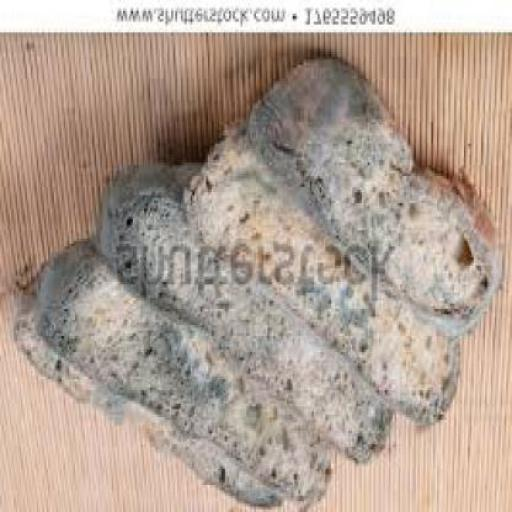biodegradable: (14, 56, 496, 510), (96, 157, 389, 468), (179, 122, 459, 422), (34, 241, 334, 511), (244, 60, 496, 338), (10, 282, 280, 511)
cardboard: (42, 38, 114, 246), (410, 62, 511, 168), (0, 37, 43, 282), (386, 433, 511, 511), (116, 35, 177, 171), (0, 474, 187, 511), (278, 38, 510, 62), (460, 338, 510, 431), (11, 402, 75, 472), (208, 36, 257, 122), (497, 214, 511, 511), (179, 38, 206, 163), (326, 471, 388, 511), (78, 434, 136, 472), (0, 284, 10, 476), (478, 168, 510, 211), (378, 62, 410, 100), (12, 374, 38, 401), (260, 38, 272, 92), (391, 100, 410, 125), (136, 455, 158, 474), (75, 415, 99, 431), (354, 62, 377, 76), (398, 124, 411, 136), (368, 76, 378, 89), (382, 98, 392, 108), (349, 62, 354, 68)
